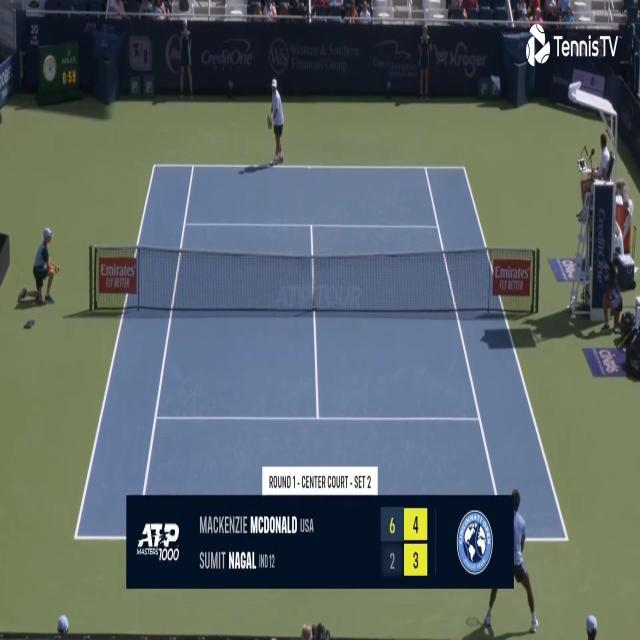tennis-player: (471, 482, 544, 640), (266, 75, 286, 169)
